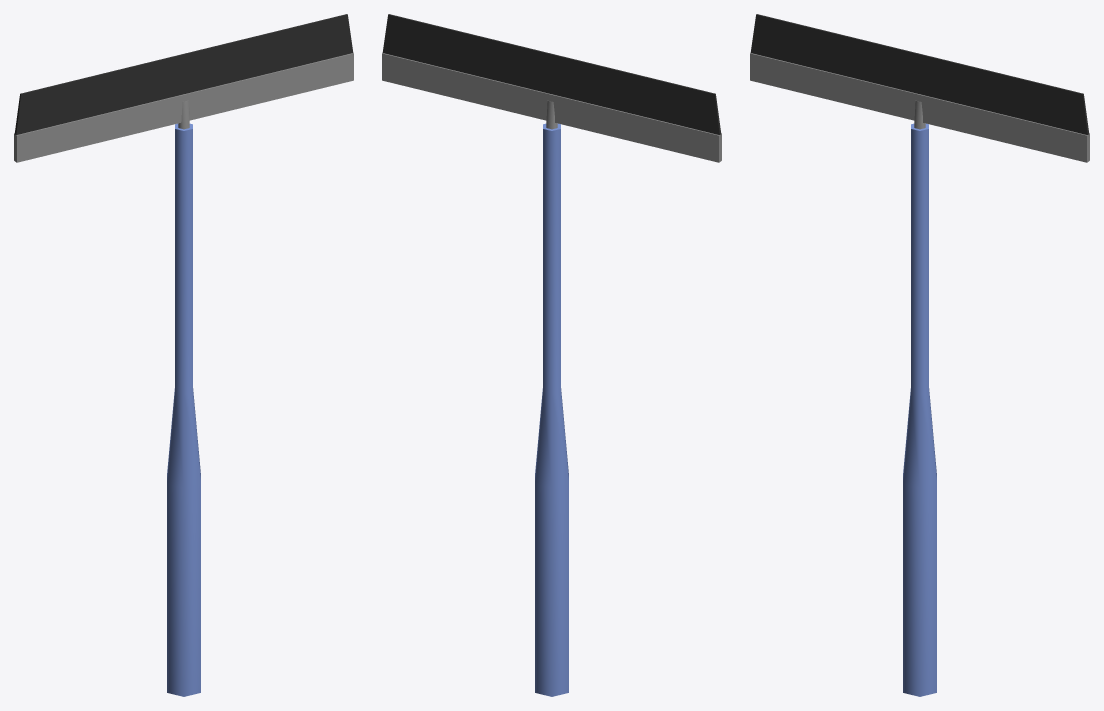
Rendered from Squeegee.fbx.
3 renders of one model, left to right at view 1: azimuth 30°, elevation 25°; view 2: azimuth 150°, elevation 25°; view 3: azimuth 330°, elevation 25°, orthographic.
Visible parts, largest first — view 1: Squeegee; view 2: Squeegee; view 3: Squeegee.
Part boxes in pixels (x1,y1,x2,y2): Squeegee: [14, 14, 353, 696]; Squeegee: [382, 14, 721, 696]; Squeegee: [750, 14, 1089, 696].
Size of the model in its own units: 0.9991 by 1.8 by 0.0877.
